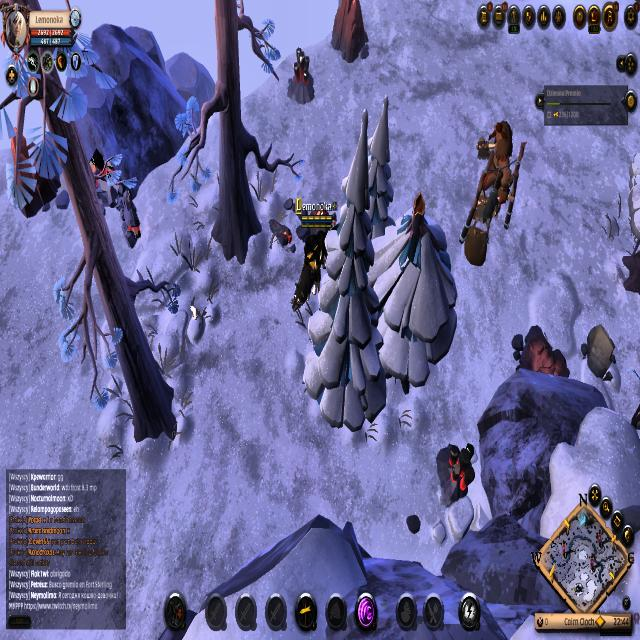ore tier 5: (435, 439, 478, 505), (285, 44, 317, 109)
rock tier 1: (582, 322, 617, 383)
